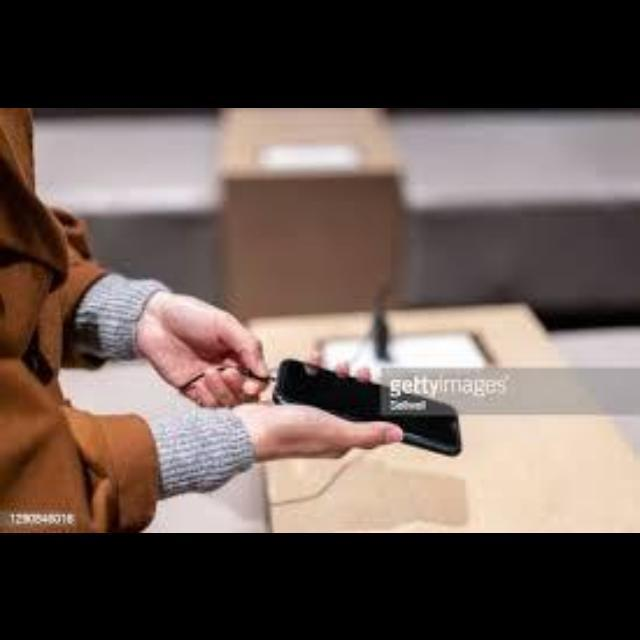PhoneUse: (273, 357, 463, 457)
